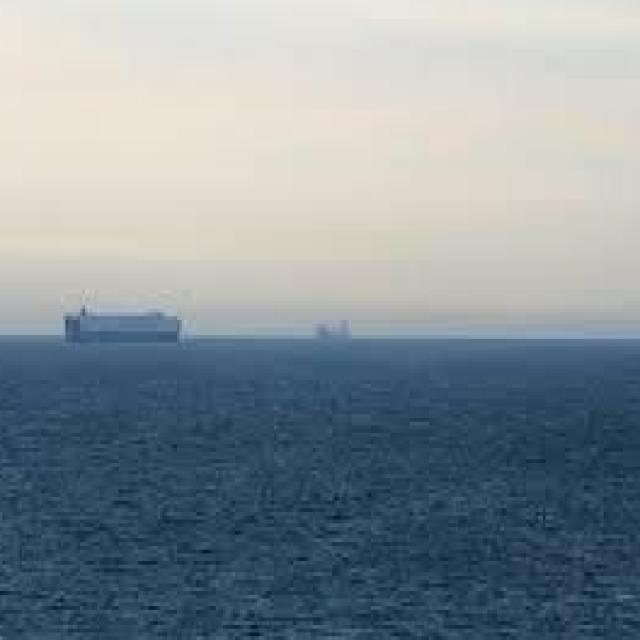cargoship: (53, 292, 203, 359)
